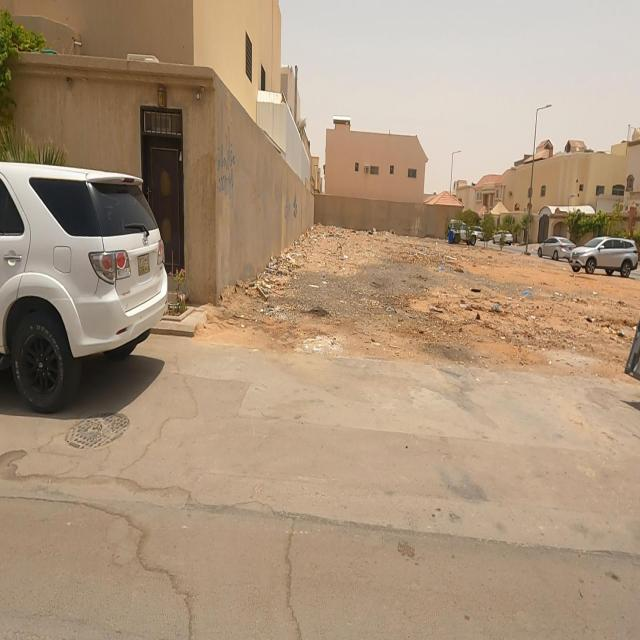Graffiti: (218, 125, 237, 209), (286, 189, 301, 219)
